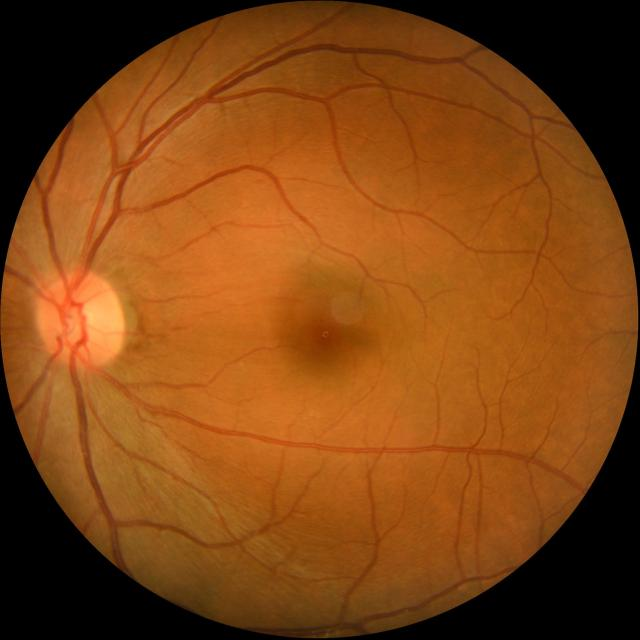OC: (68, 304, 96, 336)
OD: (39, 271, 123, 366)
